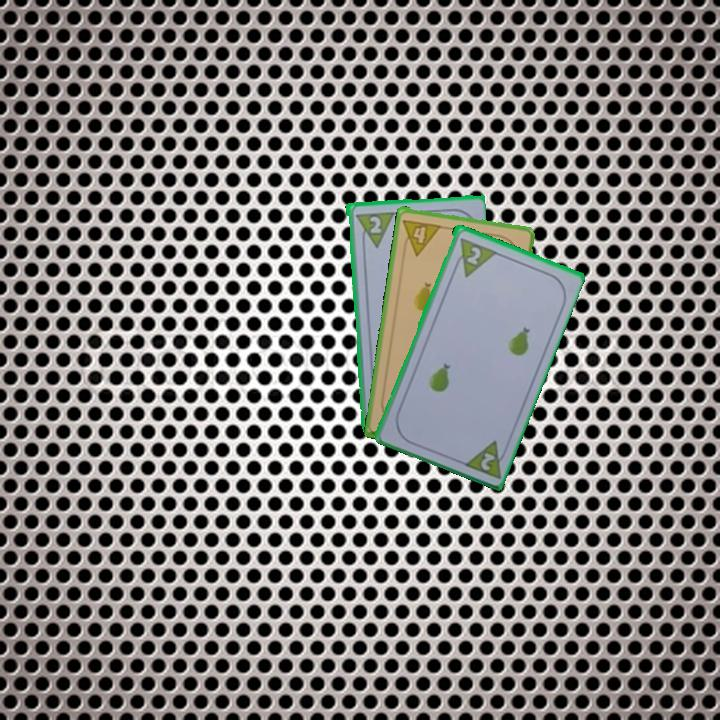2p: (449, 233, 498, 279), (351, 208, 395, 250), (477, 448, 498, 473)
4p: (399, 215, 444, 258)
